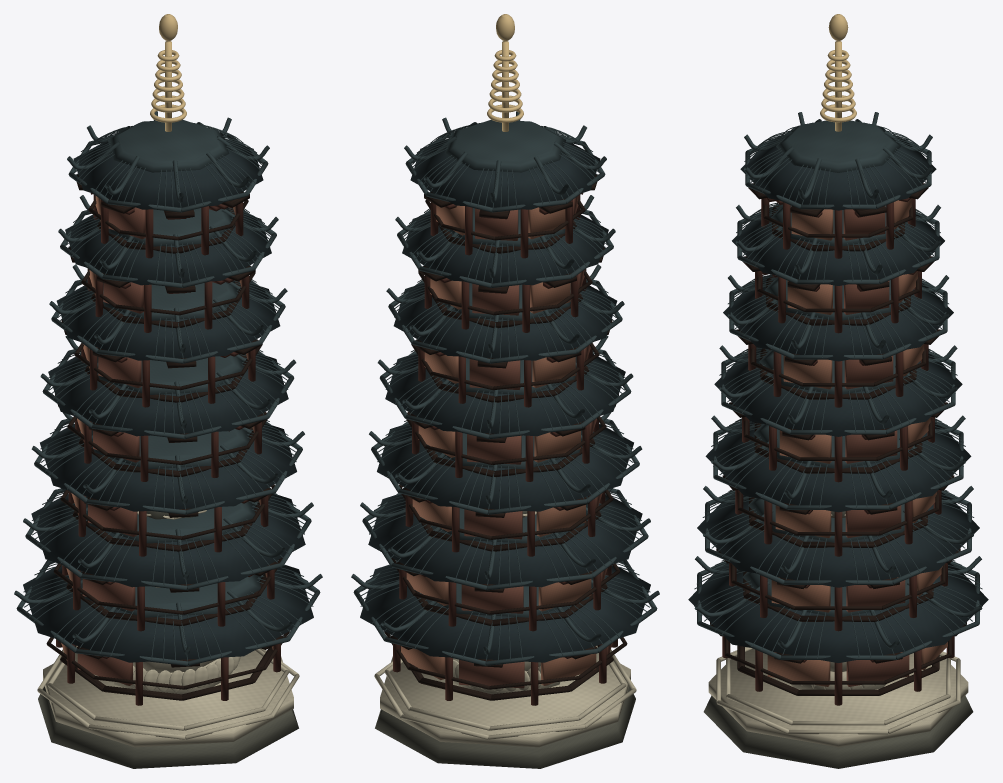
File: tower.glb
3 renders of one model, left to right at view 1: azimuth 30°, elevation 25°; view 2: azimuth 150°, elevation 25°; view 3: azimuth 270°, elevation 25°, orthographic.
Parts seen in each view (by area): view 1: 八角坡瓦面, 塔基莲座台阶, 八角坡瓦面.001, 八角坡瓦面.002, 八角坡瓦面.003, 八角坡瓦面.004, 八角坡瓦面.006, 八角坡瓦面.005, 石塔基下层, 脊部小坡.006, 脊部小坡, 脊部小坡.002 (+11 smaller); view 2: 八角坡瓦面, 八角坡瓦面.001, 塔基莲座台阶, 八角坡瓦面.002, 八角坡瓦面.003, 八角坡瓦面.004, 八角坡瓦面.006, 八角坡瓦面.005, 石塔基下层, 脊部小坡.006, 青砖墙与窗格.002, 青砖墙与窗格.008 (+25 smaller); view 3: 八角坡瓦面, 塔基莲座台阶, 八角坡瓦面.001, 八角坡瓦面.002, 八角坡瓦面.003, 八角坡瓦面.004, 八角坡瓦面.006, 八角坡瓦面.005, 石塔基下层, 脊部小坡.006, 青砖墙与窗格, 青砖墙与窗格.005 (+18 smaller).
Boxes of the visible parts, box(x1,y1,x2,y2) form: 八角坡瓦面: box(23, 565, 313, 662); 塔基莲座台阶: box(43, 650, 293, 747); 八角坡瓦面.001: box(31, 493, 305, 587); 八角坡瓦面.002: box(40, 423, 296, 511); 八角坡瓦面.003: box(48, 353, 288, 436); 八角坡瓦面.004: box(56, 283, 280, 360); 八角坡瓦面.006: box(73, 139, 263, 209); 八角坡瓦面.005: box(65, 212, 271, 285); 石塔基下层: box(38, 686, 298, 768); 脊部小坡.006: box(108, 119, 229, 172); 脊部小坡: box(80, 571, 260, 617); 脊部小坡.002: box(91, 422, 249, 469); 八角坡瓦面: box(360, 565, 650, 662); 八角坡瓦面.001: box(368, 493, 642, 587); 塔基莲座台阶: box(380, 653, 630, 747); 八角坡瓦面.002: box(377, 423, 633, 511); 八角坡瓦面.003: box(385, 353, 625, 436); 八角坡瓦面.004: box(393, 283, 617, 360); 八角坡瓦面.006: box(410, 139, 600, 209); 八角坡瓦面.005: box(402, 213, 608, 285); 石塔基下层: box(375, 686, 635, 768); 脊部小坡.006: box(444, 119, 565, 172); 青砖墙与窗格.002: box(459, 659, 524, 688); 青砖墙与窗格.008: box(461, 584, 523, 613); 八角坡瓦面: box(688, 563, 988, 662); 塔基莲座台阶: box(708, 649, 968, 747); 八角坡瓦面.001: box(697, 493, 979, 587); 八角坡瓦面.002: box(705, 420, 971, 512); 八角坡瓦面.003: box(714, 347, 962, 436); 八角坡瓦面.004: box(723, 275, 953, 361); 八角坡瓦面.006: box(740, 135, 936, 210); 八角坡瓦面.005: box(732, 205, 944, 285); 石塔基下层: box(703, 695, 973, 768); 脊部小坡.006: box(776, 120, 900, 172); 青砖墙与窗格: box(846, 652, 909, 686); 青砖墙与窗格.005: box(767, 652, 830, 686).
Bounding box in the file's own units: 2.32 × 5.93 × 2.32.
9 materials, 8 textured.
